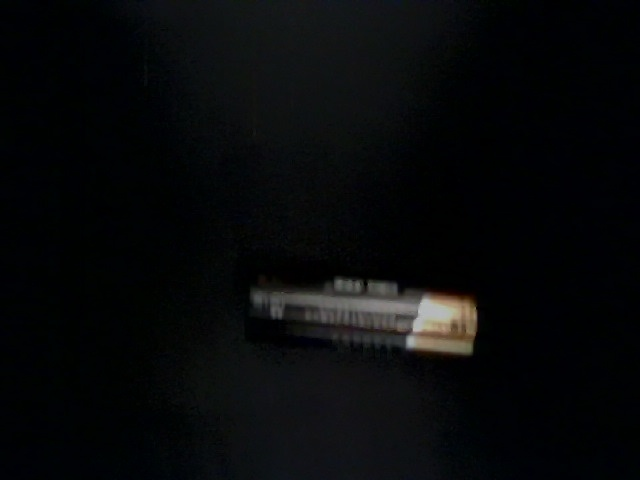YHLJ: (23, 326, 265, 480)
